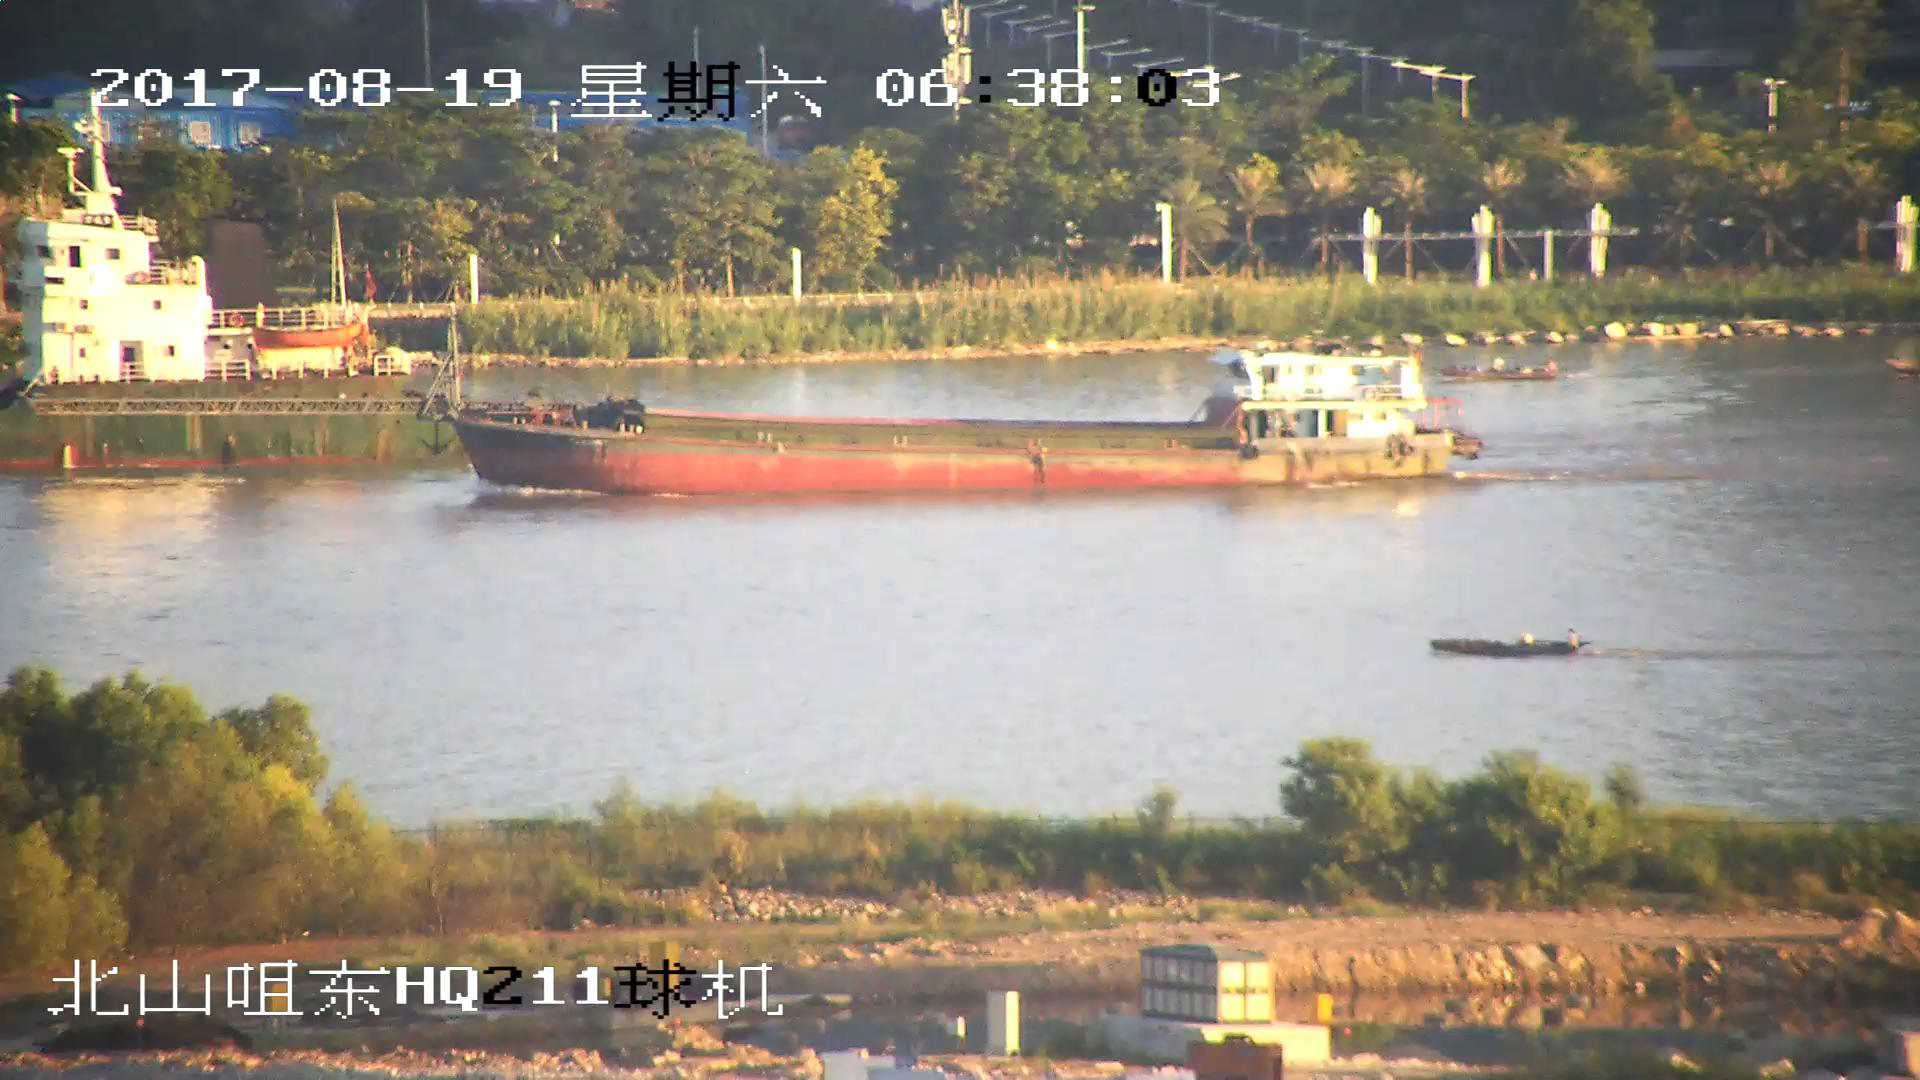Ship: (442, 345, 1476, 491), (3, 150, 436, 469), (1435, 630, 1593, 661), (1447, 363, 1563, 389)
